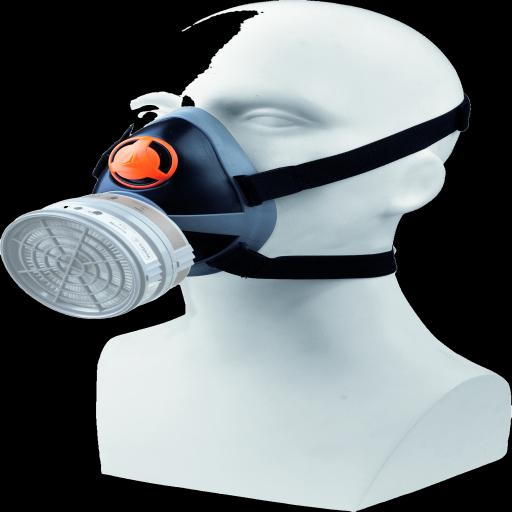mask: (0, 102, 293, 335)
